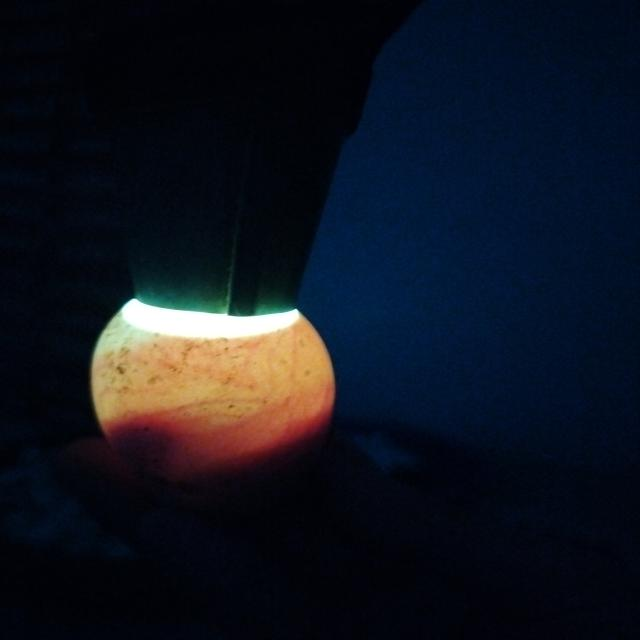Embriao: (99, 421, 325, 510)
